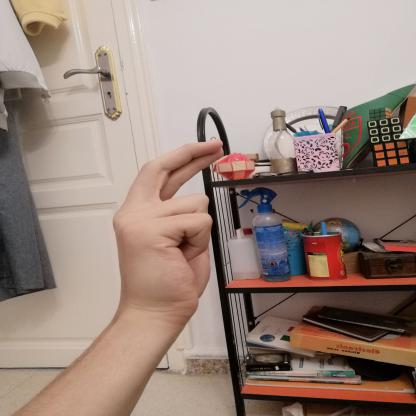ZAY: (102, 132, 236, 318)
